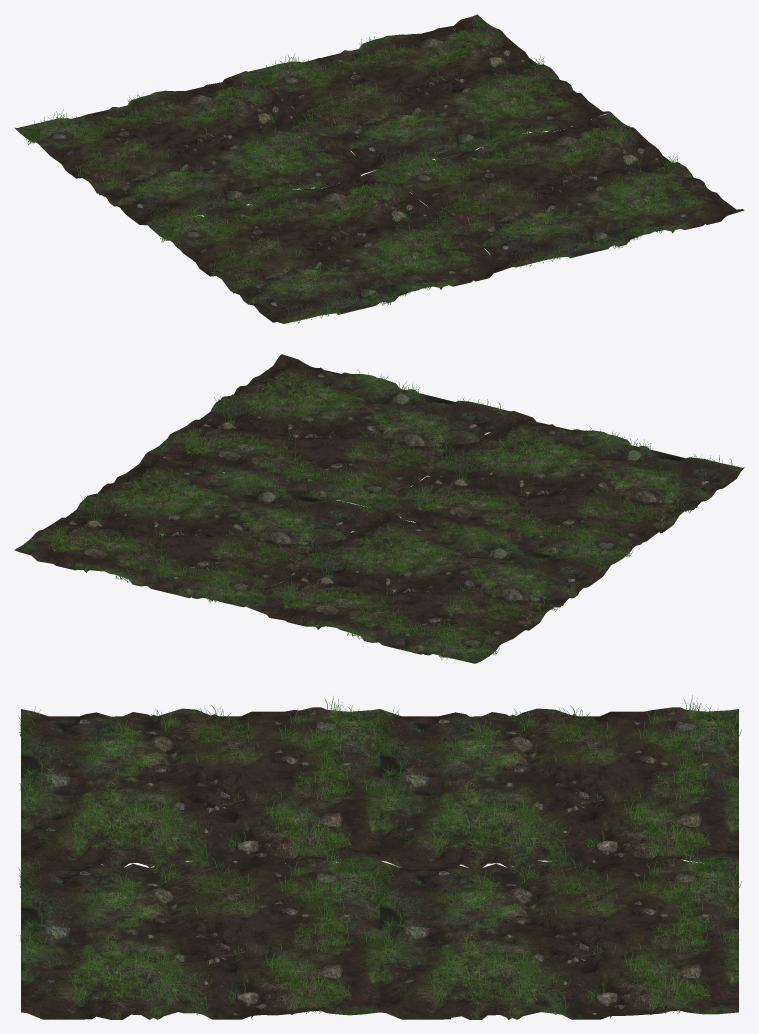
Rendered from grass-mud.glb.
3 views of the same model, one above another, from view 1: azimuth 30°, elevation 25°; view 2: azimuth 150°, elevation 25°; view 3: azimuth 270°, elevation 25° (orthographic). The views are drawn at different scales.
Parts seen in each view (by area): view 1: Group2, grass_a; view 2: Group2, grass_a; view 3: Group2, grass_a.
Part boxes in pixels (bbox=[...]): Group2: bbox=[14, 14, 744, 323]; grass_a: bbox=[26, 24, 706, 323]; Group2: bbox=[14, 354, 744, 663]; grass_a: bbox=[42, 369, 734, 659]; Group2: bbox=[21, 707, 738, 1019]; grass_a: bbox=[18, 695, 741, 1015].
Bounding box in the file's own units: 13.33 × 0.6197 × 13.32.
2 materials, 2 textured.
